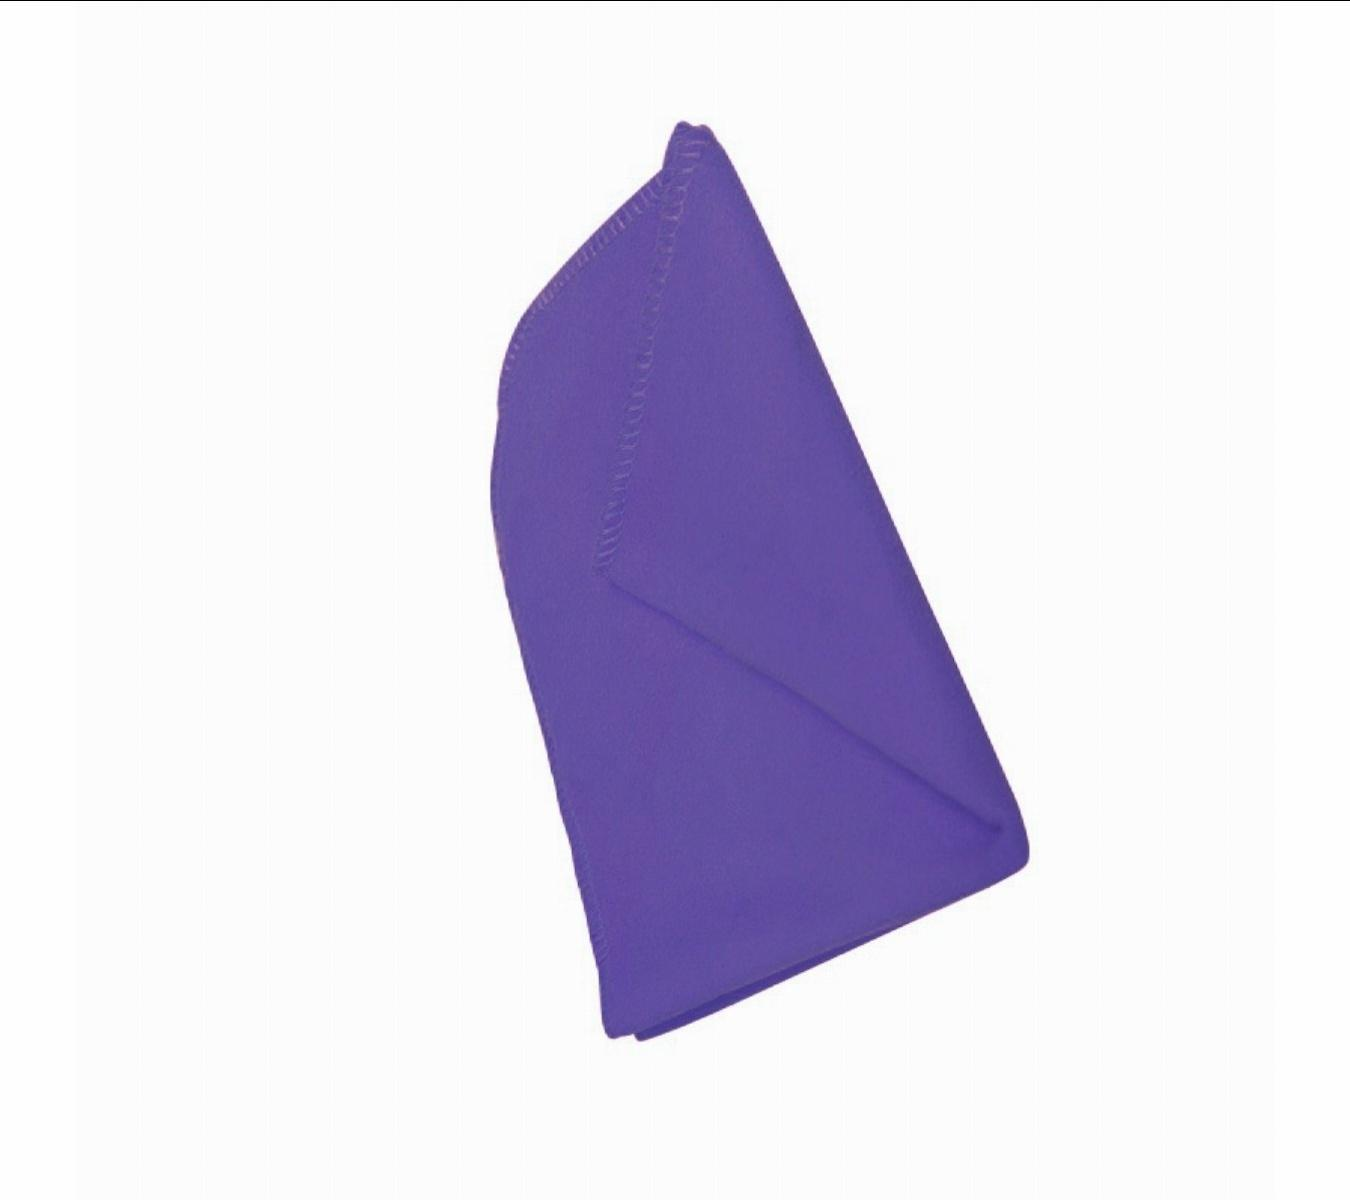towel: (360, 90, 1007, 1045)
